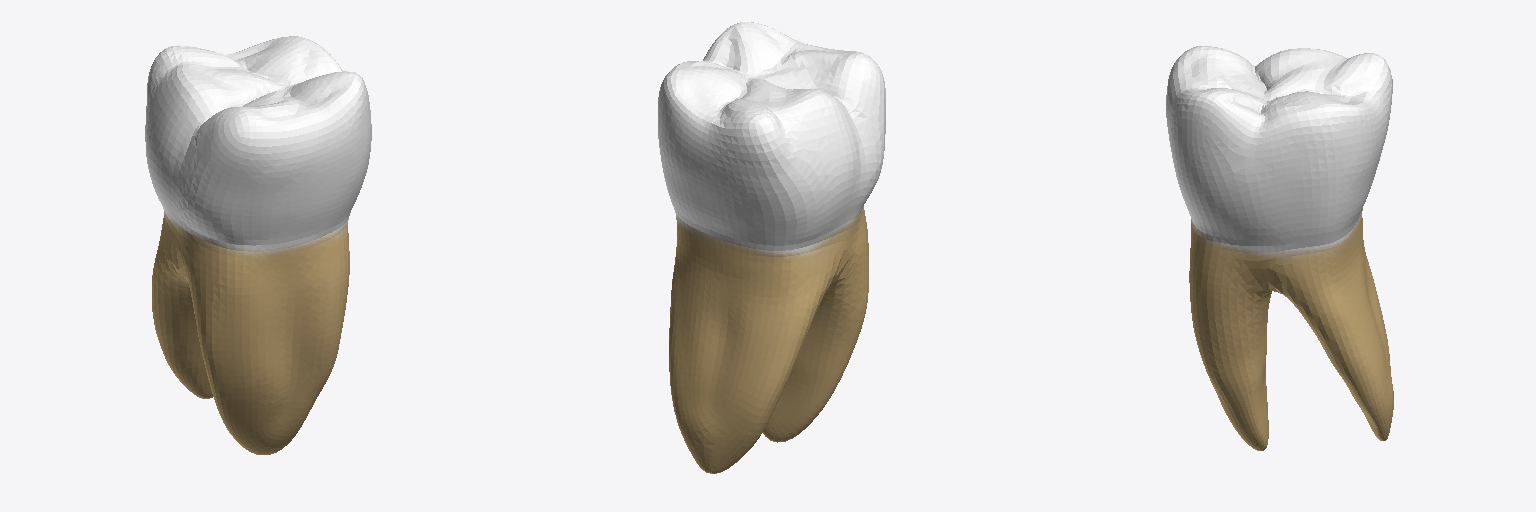
3 renders of one model, left to right at view 1: azimuth 30°, elevation 25°; view 2: azimuth 150°, elevation 25°; view 3: azimuth 270°, elevation 25°, orthographic.
Visible parts, largest first — view 1: outer; view 2: outer; view 3: outer.
Boxes of the visible parts, <box> form: outer: <box>145,36,371,454</box>; outer: <box>658,22,885,473</box>; outer: <box>1166,46,1393,450</box>.
Size of the model in its own units: 4.25 by 8.62 by 4.63.
Materials: 2 (1 with a texture image).